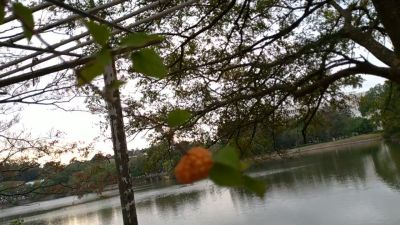eggs: (173, 145, 214, 184)
